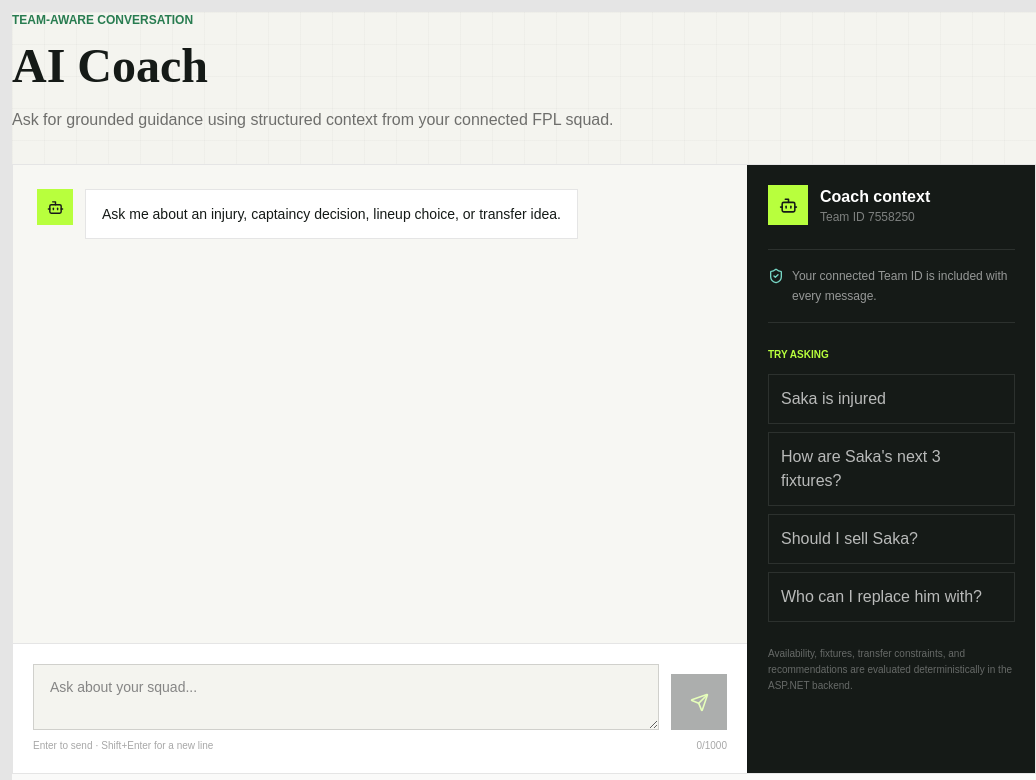
CoachPage › shows an error and retries without duplicating the user message
In the text box named "Message AI Coach": [346, 697] box top-left (33, 664), bottom-right (659, 730), type "Sell Martinelli?"
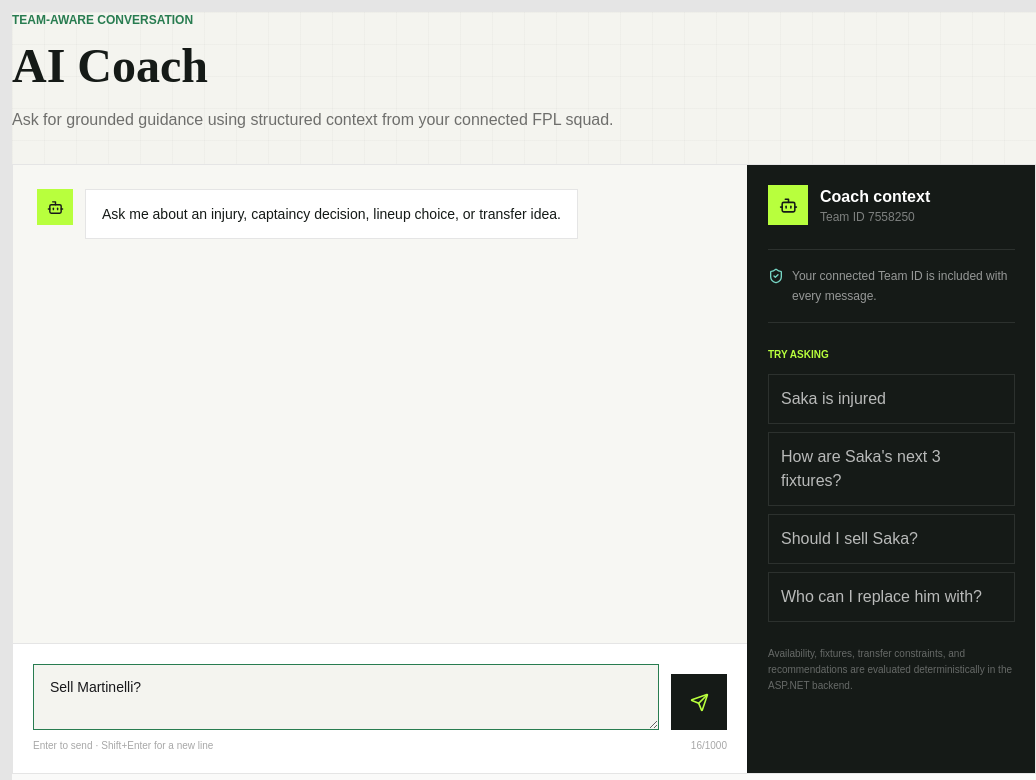
Click the button named "Send message": [699, 702] box top-left (671, 674), bottom-right (727, 730)
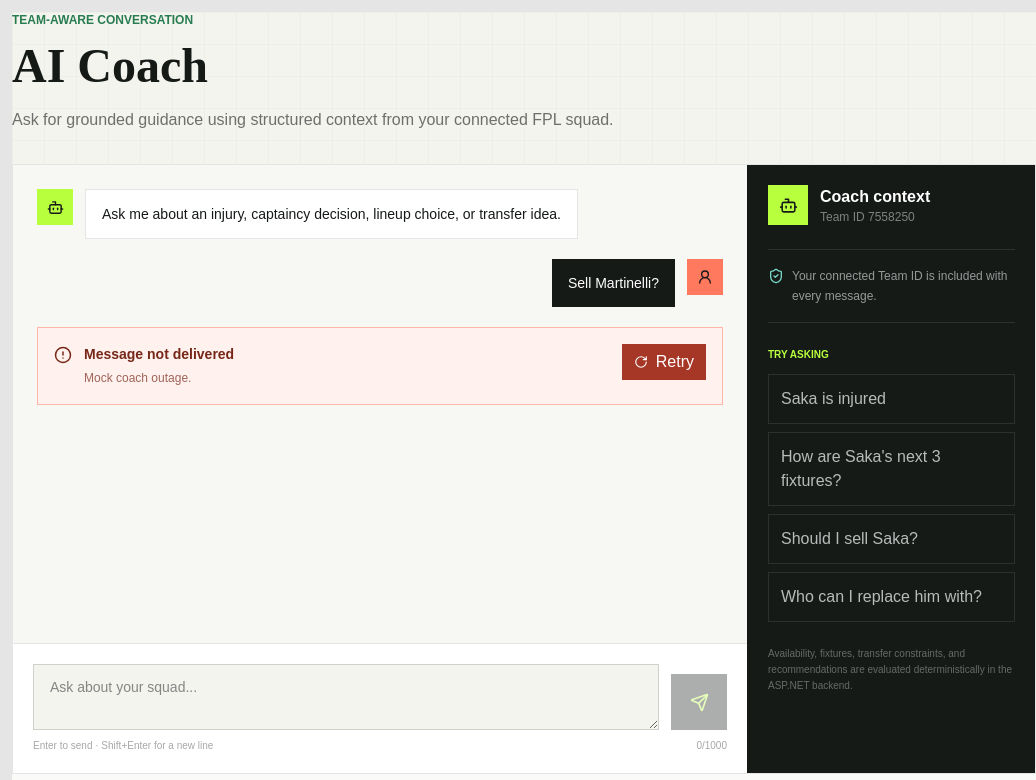
expect the message shows "Mock coach outage.": met, box top-left (84, 371), bottom-right (191, 385)
Click the button "Retry": [664, 362] box top-left (622, 344), bottom-right (706, 380)
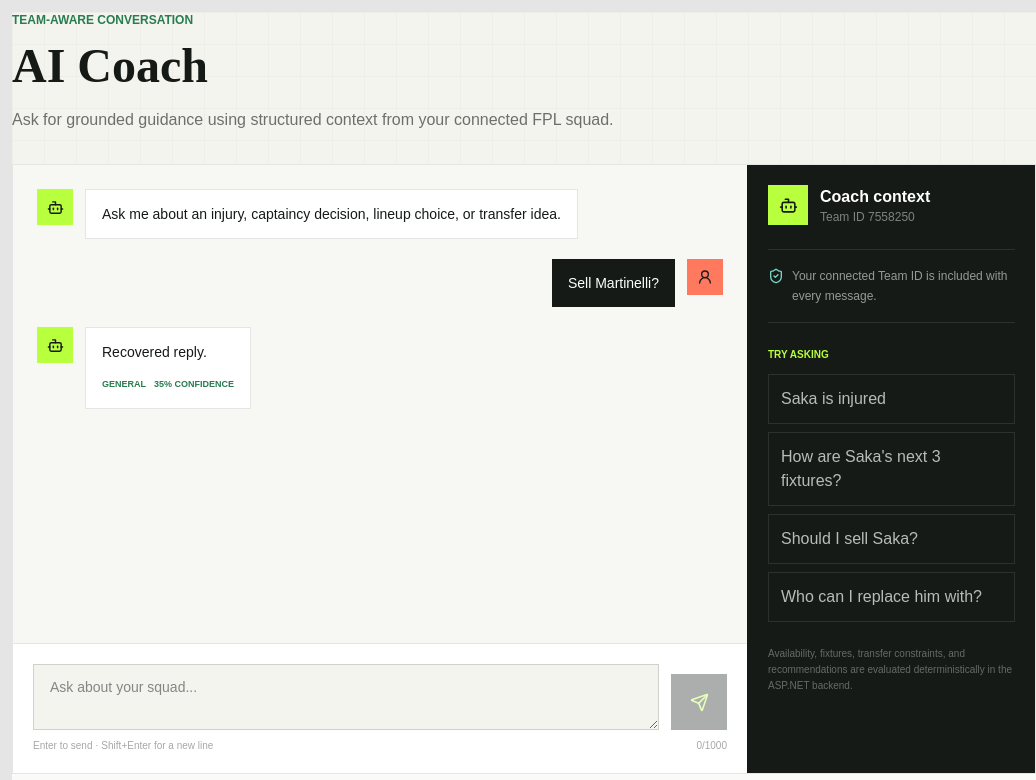
expect the text "Recovered reply." is shown: met, box top-left (102, 344), bottom-right (207, 360)
expect the text "Sell Martinelli?" is shown once: met, box top-left (568, 271), bottom-right (659, 295)
expect the message "Message not delivered Mock coach outage. Retry" is gone: met
